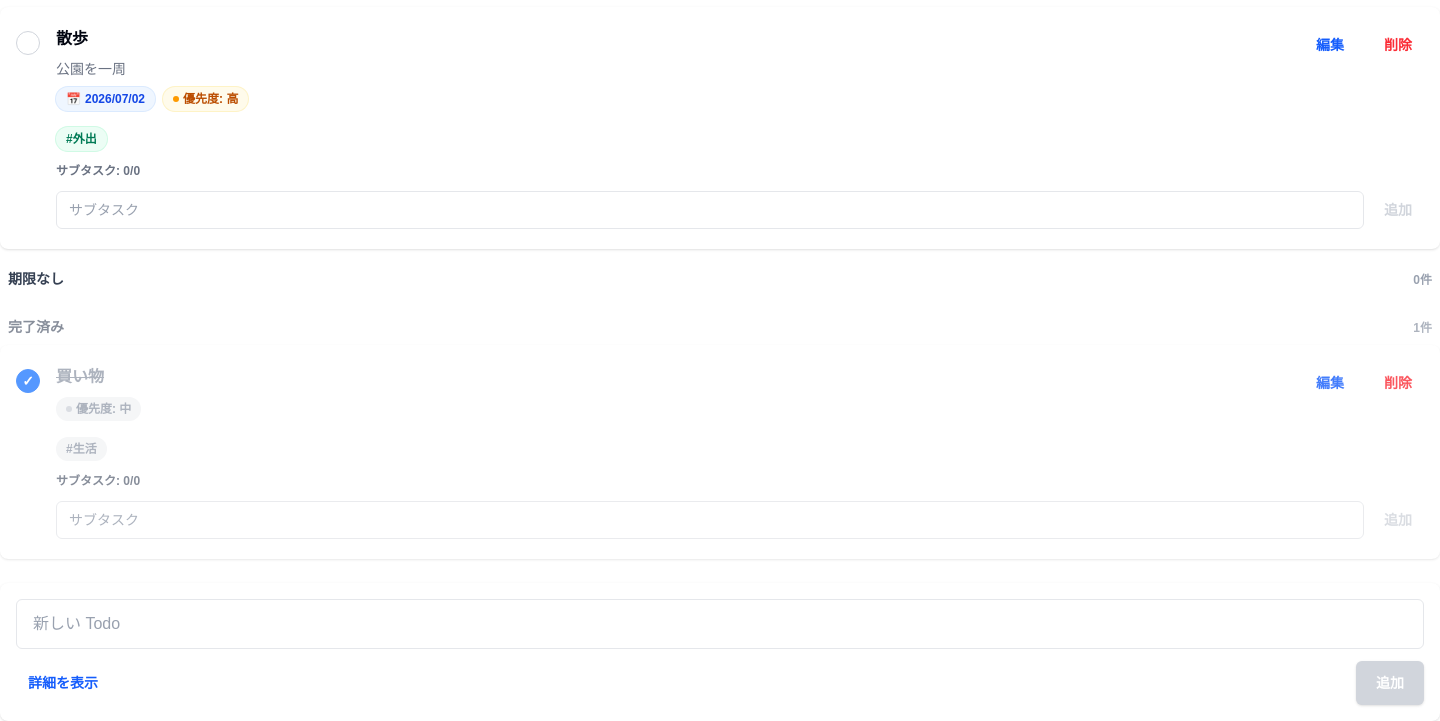
Scenario: 詳細項目を開いた状態でTodoを追加できる
(page scrolled)
Click the button with aria-label "Todo追加の詳細を表示" at {"x": 63, "y": 683}, box [16,665,110,701]
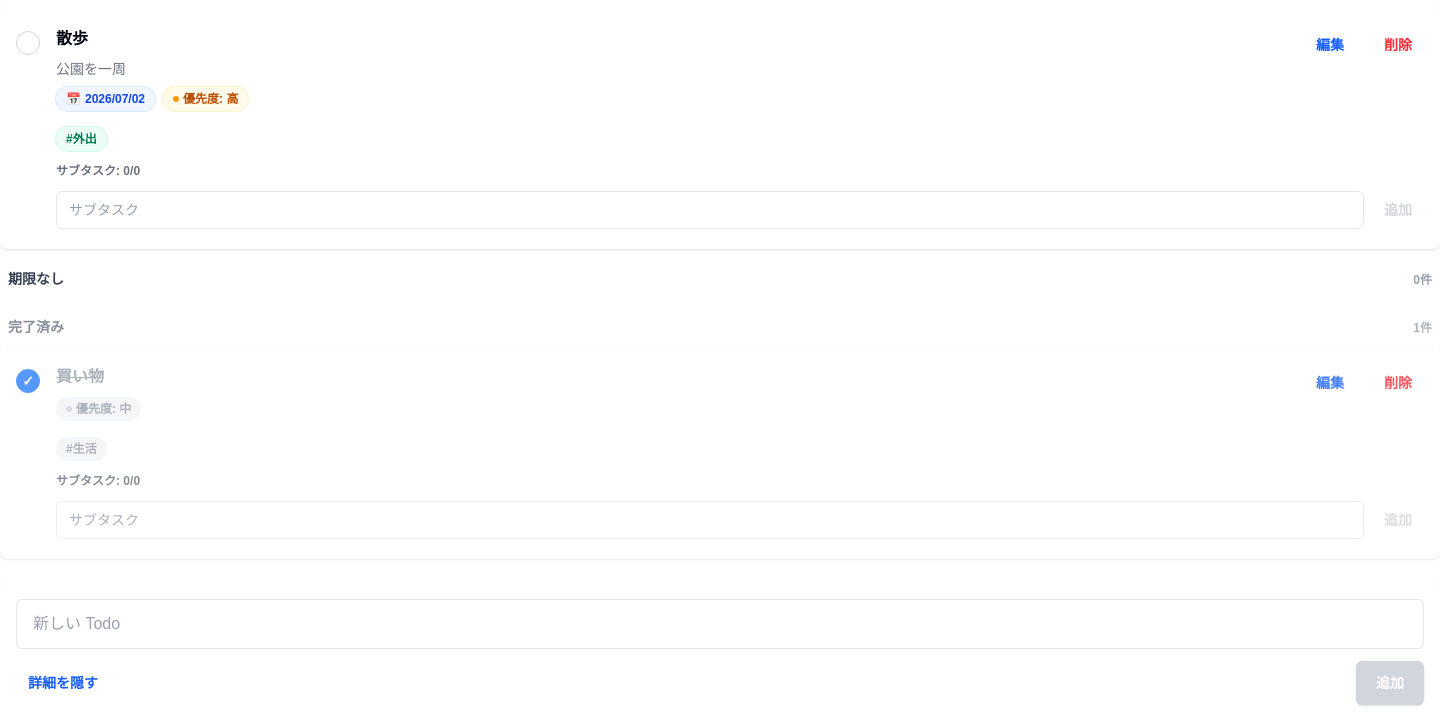
Type "読書" into the field named "追加する Todo" at {"x": 720, "y": 624}, box [16,599,1424,649]
(page scrolled)
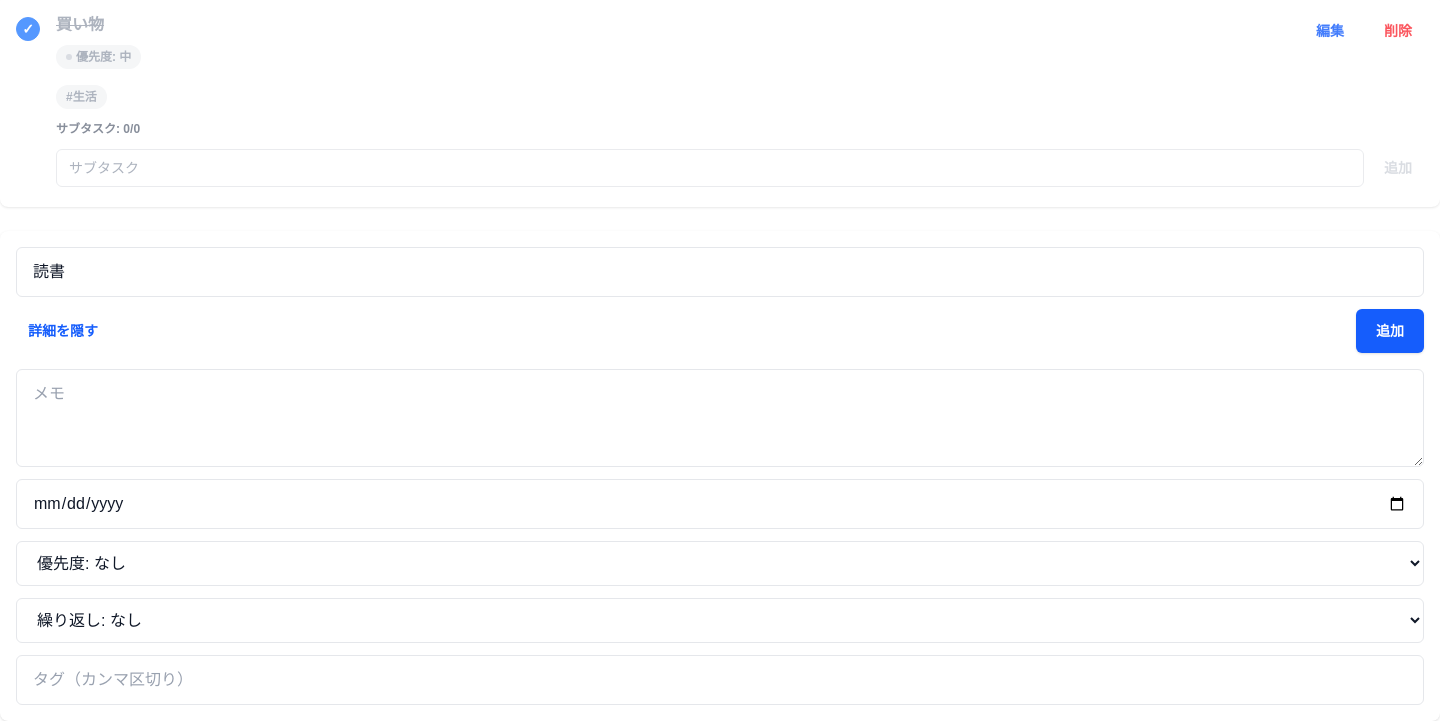
Type "寝る前に読む" into the text box named "追加する Todo メモ" at {"x": 720, "y": 418}, box [16,369,1424,467]
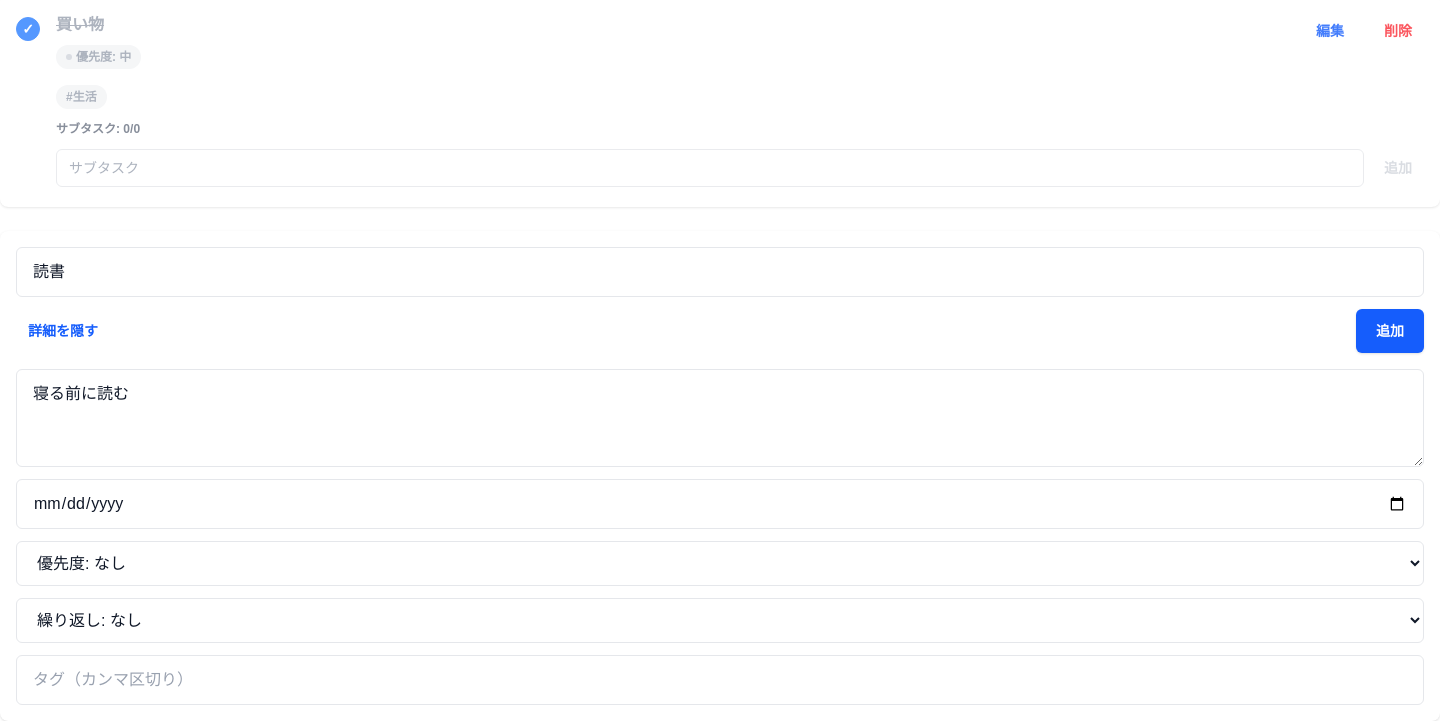
Click the button with aria-label "Todoを追加" at {"x": 1390, "y": 331}, box [1356,309,1424,353]
(page scrolled)
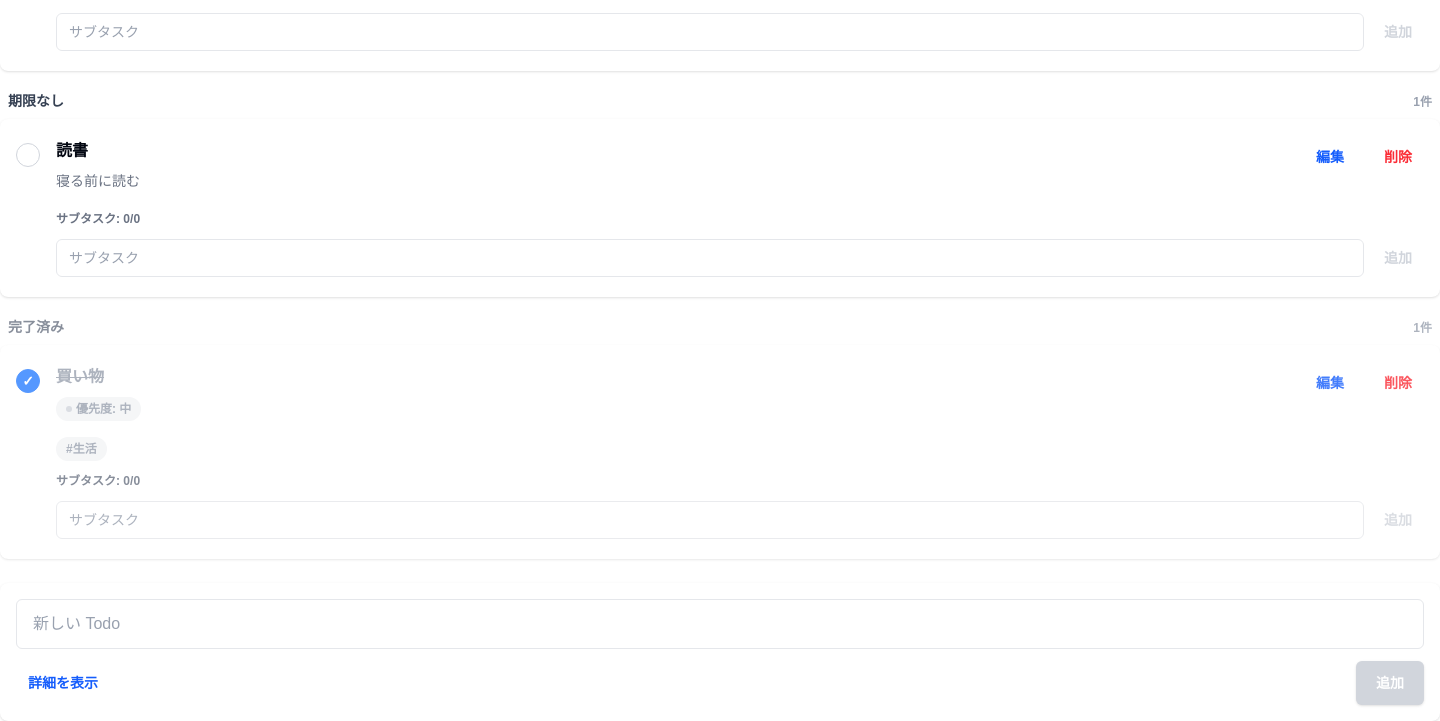
Check: the text "読書" is shown, box [56,142,88,159]
Check: the text "寝る前に読む" is shown, box [56,173,140,189]
